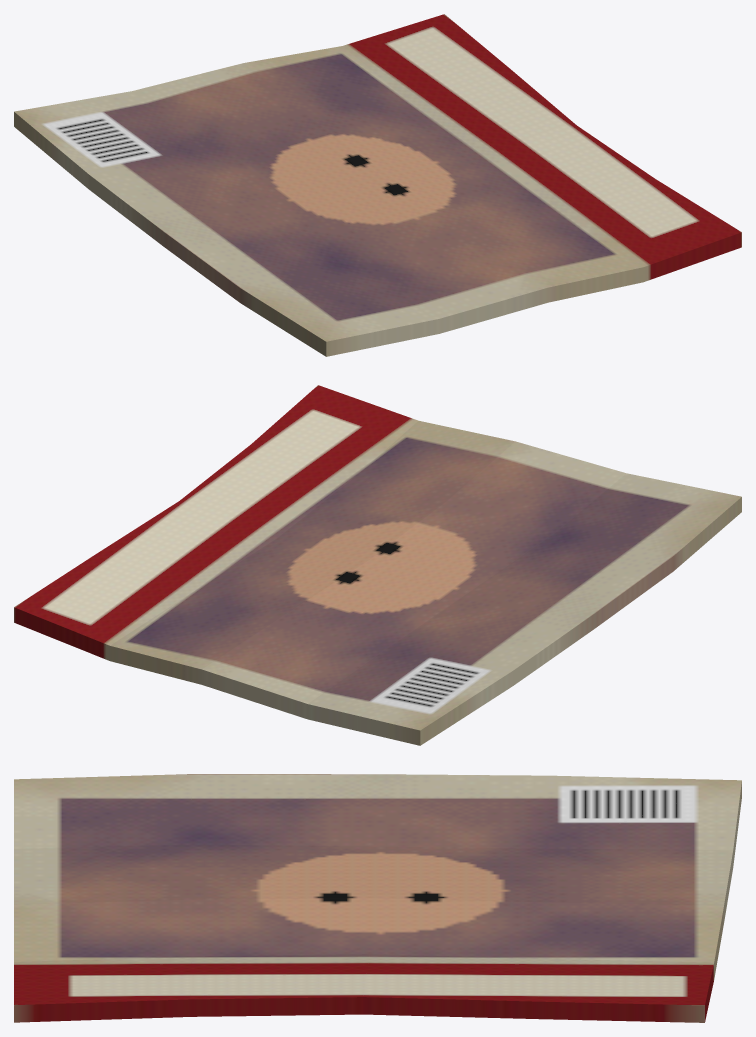
File: Magazine.fbx
3 renders of one model, top to bottom at view 1: azimuth 30°, elevation 25°; view 2: azimuth 150°, elevation 25°; view 3: azimuth 270°, elevation 25°, orthographic. The views are drawn at different scales.
Parts seen in each view (by area): view 1: Magazine.002; view 2: Magazine.002; view 3: Magazine.002.
Boxes of the visible parts, x1=… form: Magazine.002: x1=14, y1=14, x2=741, y2=356; Magazine.002: x1=14, y1=385, x2=741, y2=745; Magazine.002: x1=14, y1=774, x2=741, y2=1022.
Size of the model in its own units: 0.2557 by 0.016 by 0.3267.
1 material, 1 textured.
